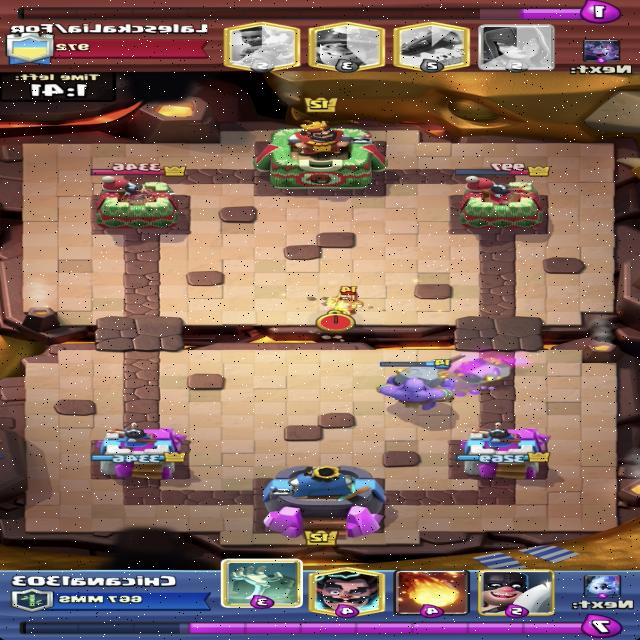Enemy-Wizard: (325, 286, 363, 316)
Player-Bowler: (374, 359, 455, 410)
